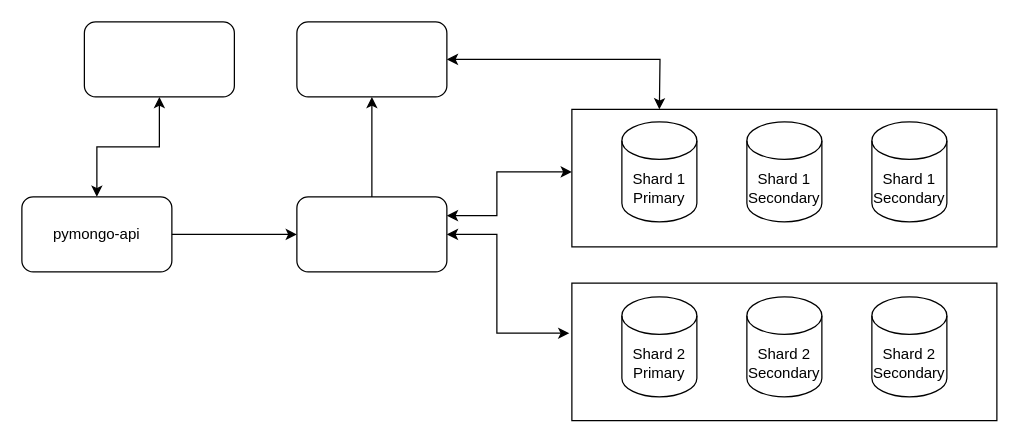
The diagram is 1019 pixels wide and 443 high, and some of its shapes have lost their labels. The shapes that lost their labels are listed below. From the top down, each one's box as (x1, y1, x2, y2) in pixels, then its label:
(83, 21, 234, 97): Redis
(296, 21, 447, 97): Mongo Config Server
(296, 196, 447, 272): Mongo router
